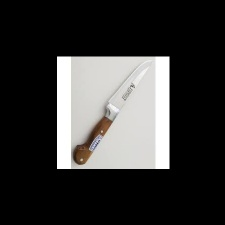k1: (101, 58, 154, 121)
